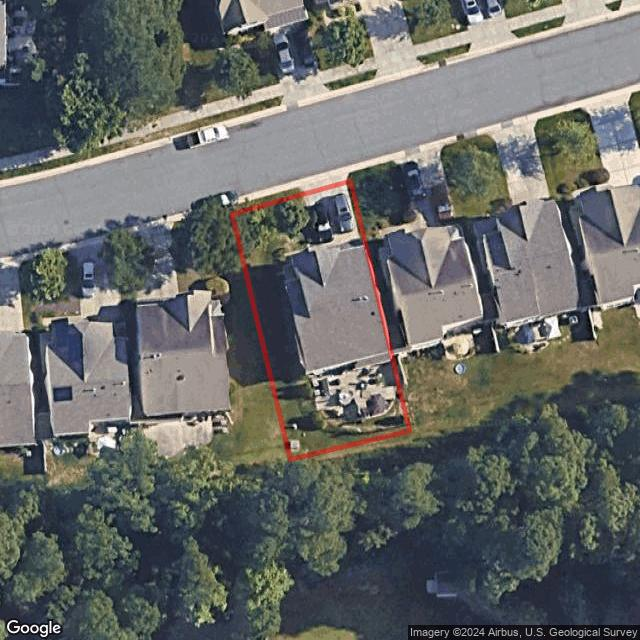Driveway: (303, 183, 361, 251)
Extra-Driveway: (298, 173, 348, 194)
Extra-Lawn: (230, 188, 306, 214), (347, 172, 352, 182)
House: (282, 238, 390, 376)
Lawn: (231, 182, 410, 459)
Other: (309, 352, 407, 432)
Sidewalk: (281, 246, 311, 265)
